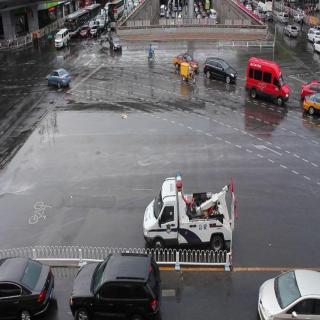BigCar: (65, 0, 91, 42)
Car: (142, 165, 245, 274), (67, 241, 165, 320), (245, 239, 320, 320), (0, 249, 52, 320), (246, 48, 290, 118), (202, 45, 238, 90), (171, 36, 201, 86), (42, 68, 74, 88), (54, 27, 69, 46), (90, 23, 103, 38), (82, 26, 89, 38)
